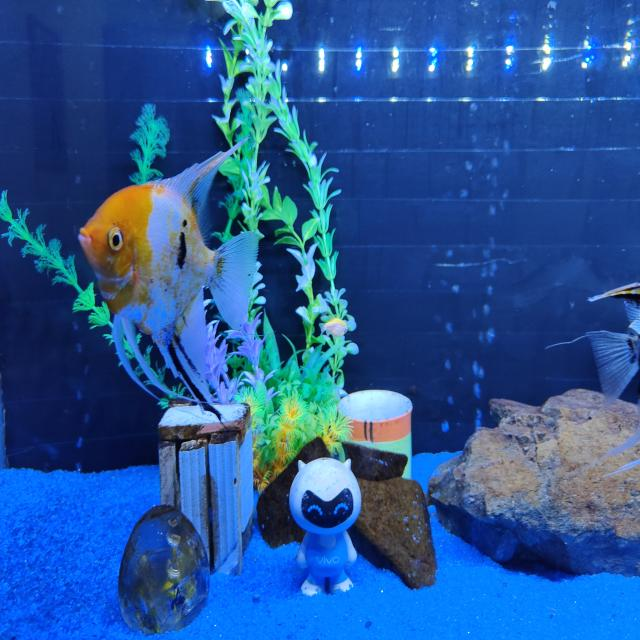Fish: (79, 141, 257, 403), (586, 283, 639, 406), (320, 318, 347, 337)
